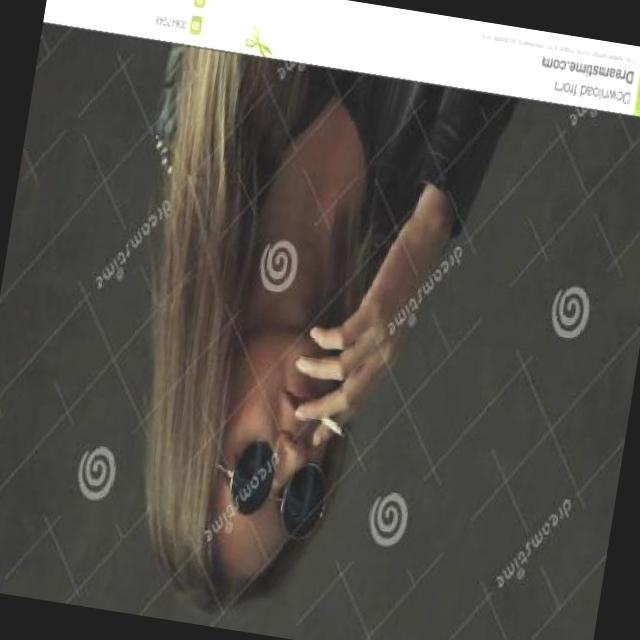cigarette: (316, 412, 348, 439)
